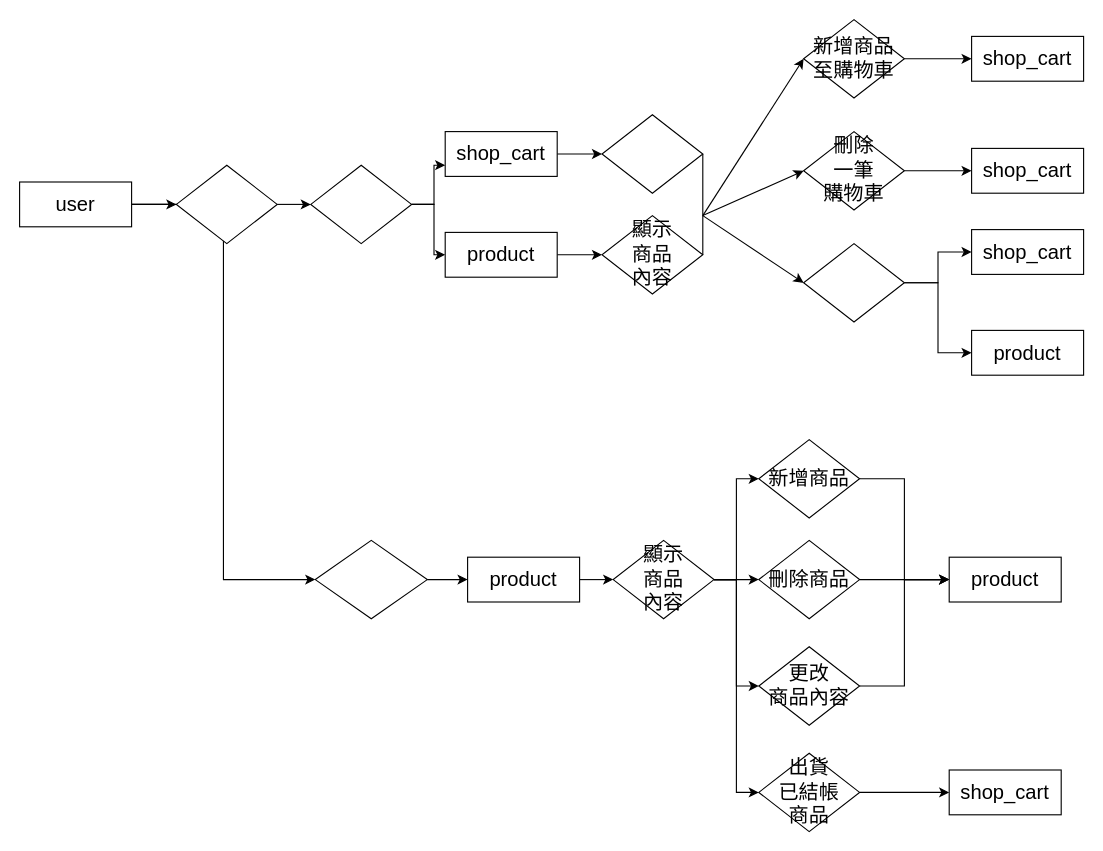
The diagram is 1103 pixels wide and 851 high, and some of its shapes have lost their labels. Here are the shapes that lost their labels. From the top down, the centre of each, then its label:
point 652,153: 顯示 購物車 內容
point 226,204: 登入成功
point 361,204: 顧客登入
point 853,282: 結帳 購物車 商品
point 370,579: 管理者登入
